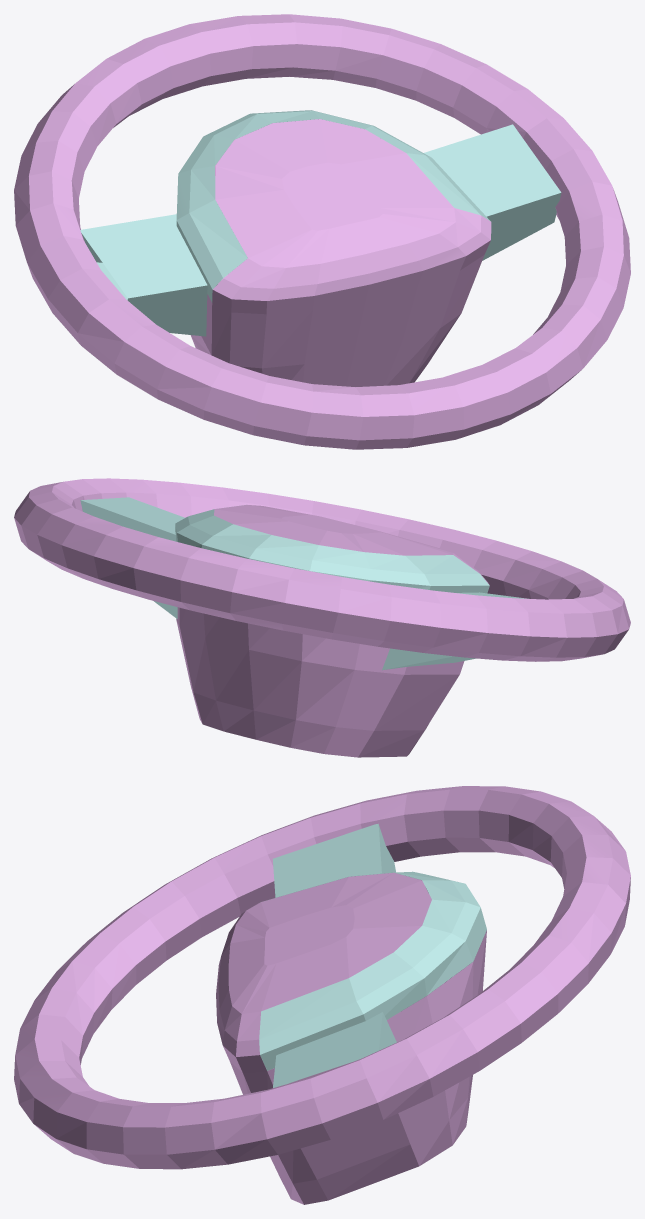
Rendered from steeringWheel.dae.
3 renders of one model, top to bottom at view 1: azimuth 30°, elevation 25°; view 2: azimuth 150°, elevation 25°; view 3: azimuth 270°, elevation 25°, orthographic. The views are drawn at different scales.
Visible parts, largest first — view 1: SteetingWheel; view 2: SteetingWheel; view 3: SteetingWheel.
Part boxes in pixels (box(x1,y1,x2,y2)): SteetingWheel: box(14, 14, 630, 449); SteetingWheel: box(14, 478, 630, 757); SteetingWheel: box(14, 786, 630, 1204).
Bounding box in the file's own units: 0.3579 × 0.1792 × 0.3203.
